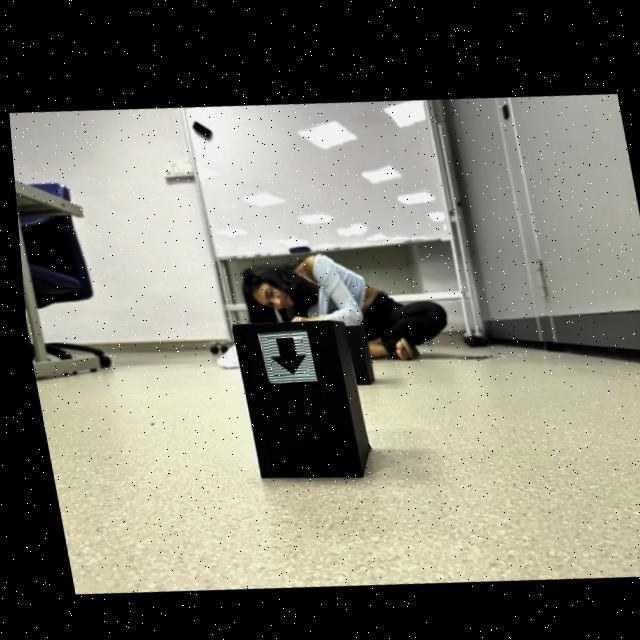DOWN: (265, 334, 300, 370)
